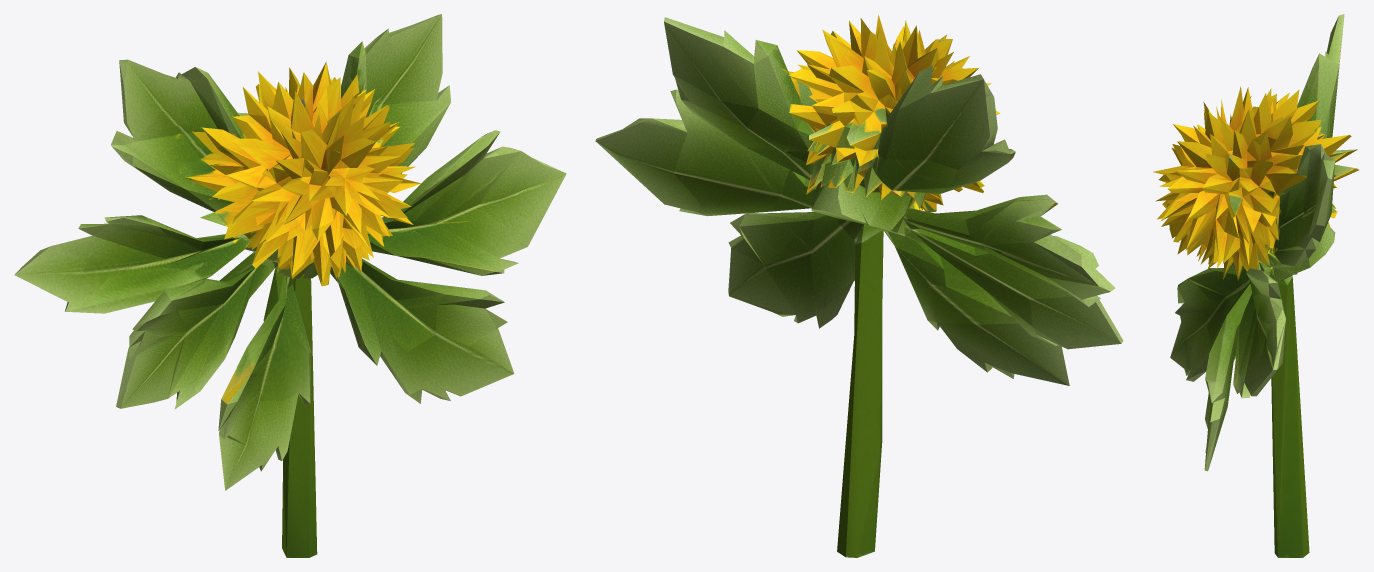
The model's file is weed.glb.
3 renders of one model, left to right at view 1: azimuth 30°, elevation 25°; view 2: azimuth 150°, elevation 25°; view 3: azimuth 270°, elevation 25°, orthographic. The views are drawn at different scales.
Bounding box in the file's own units: 1.9 × 1.76 × 0.7027.
Materials: 1 (1 with a texture image).
